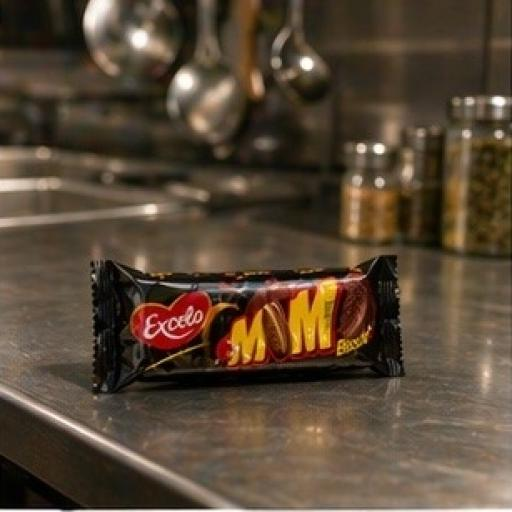MOMO: (50, 186, 481, 440)
